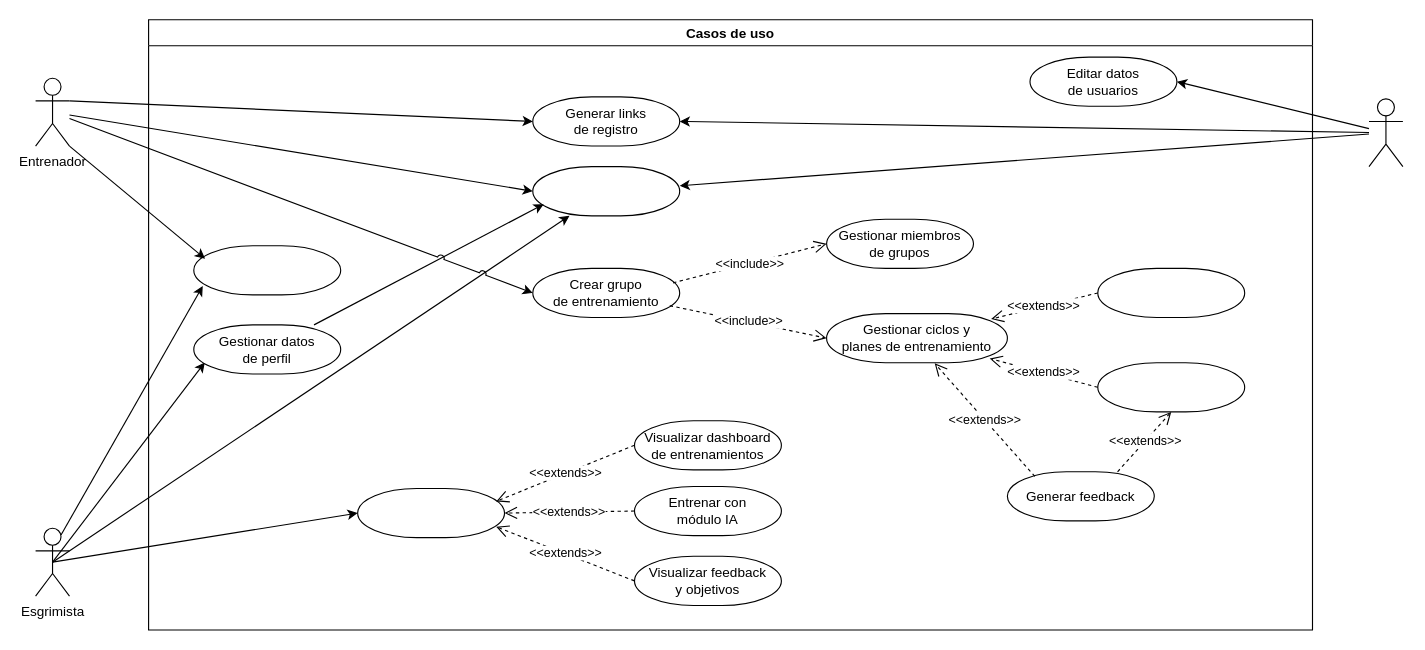
Image size: 1425x650. Some labels were removed from this diagram. Each missing label, with the centre of its shape:
"Admin" belongs at point 1385,132.
"Consultar datos de perfil" belongs at point 267,270.
"Generar objetivos" belongs at point 1171,292.
"Log in/Sign up" belongs at point 606,191.
"Visualizar entrenamientos de esgrimista" belongs at point 1171,387.
"Visualizar planificación de entrenamiento" belongs at point 431,512.
